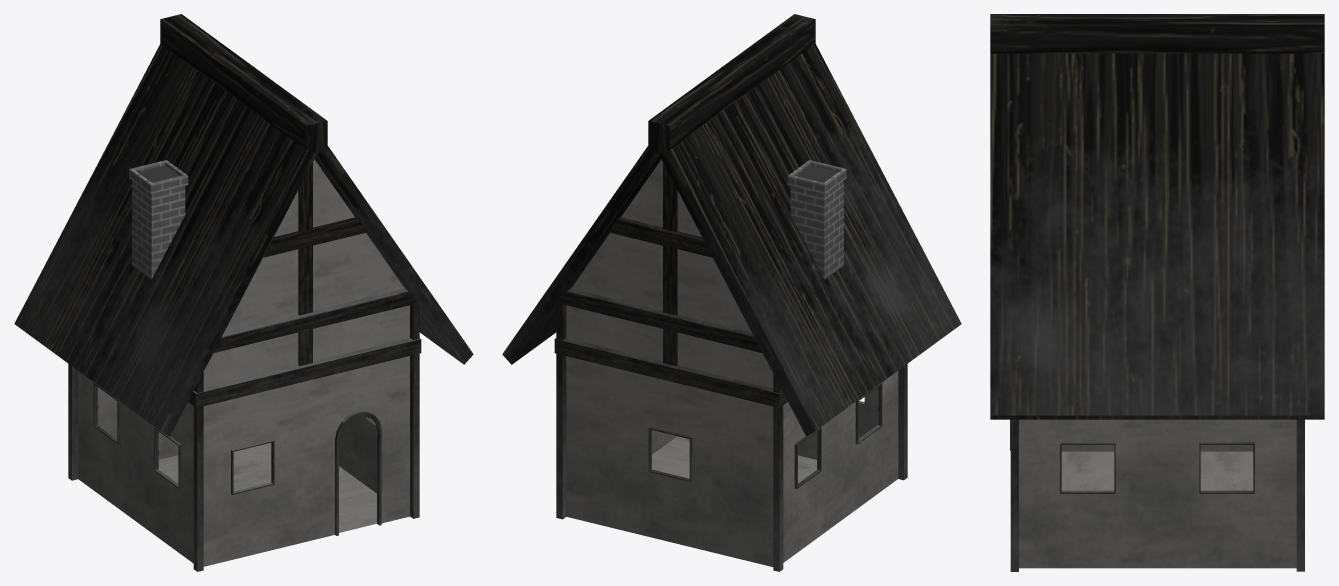
The model's file is house_2_2 1.fbx.
The picture shows the model from 3 angles, left to right: view 1: azimuth 30°, elevation 25°; view 2: azimuth 150°, elevation 25°; view 3: azimuth 270°, elevation 25°; orthographic projection. The views are drawn at different scales.
Visible parts, largest first — view 1: house2; view 2: house2; view 3: house2.
Boxes of the visible parts, bbox=[...] form: house2: bbox=[14, 14, 473, 571]; house2: bbox=[502, 14, 961, 571]; house2: bbox=[990, 14, 1324, 571].
Size of the model in its own units: 2.98 by 3.88 by 2.4.
Materials: 1 (1 with a texture image).
